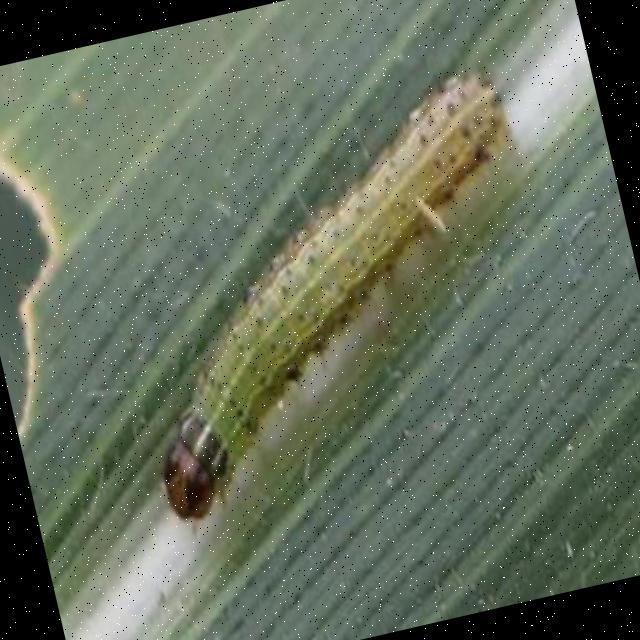worm: (87, 48, 586, 545), (149, 407, 244, 532)
